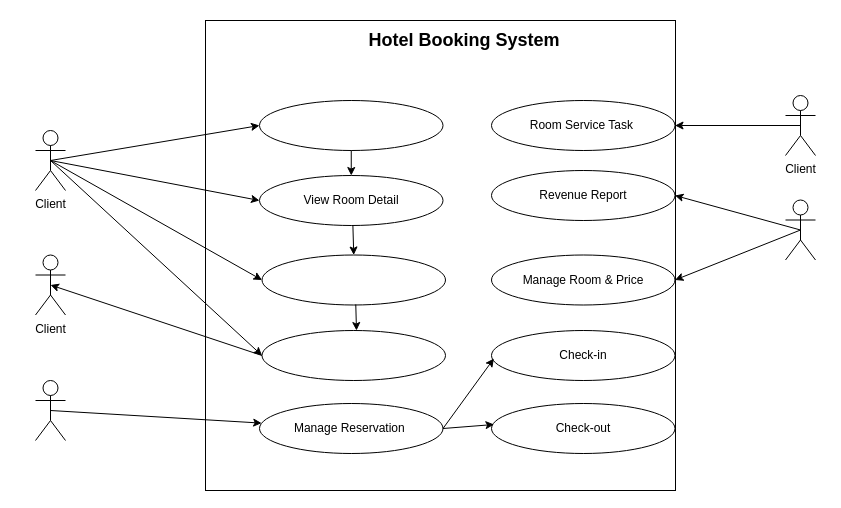
Some shapes in this 841 by 508 pixel diagram are drawn without their labels. Here are the shapes that lost their labels. From the top down, the centre of each, then its label:
At (350,125): "Search Room".
At (800,229): "Manager".
At (353,279): "Book Room Online".
At (353,355): "Pay Online".
At (50,410): "Receptionist".
